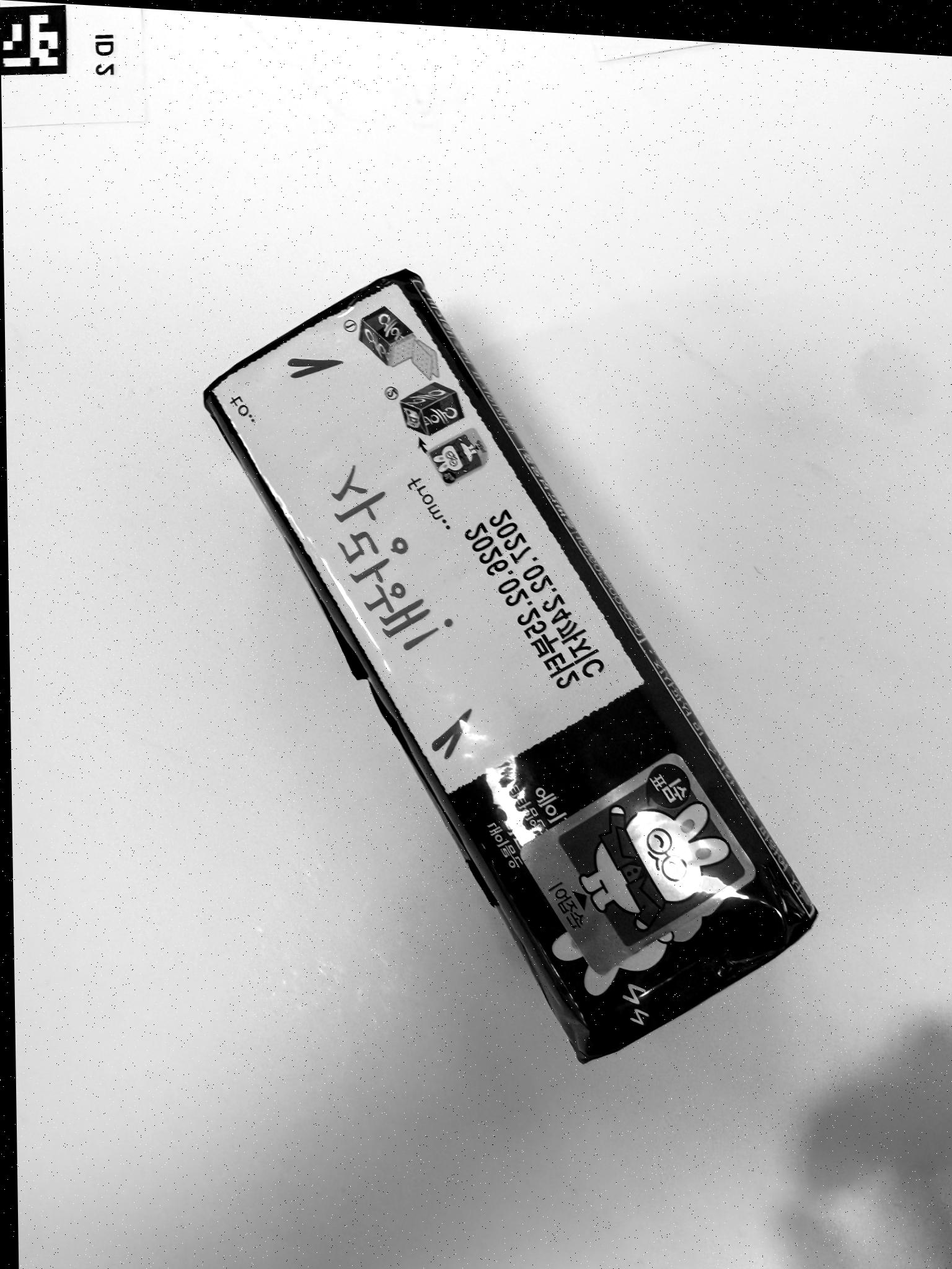cracker_ace: (205, 270, 816, 1062)
